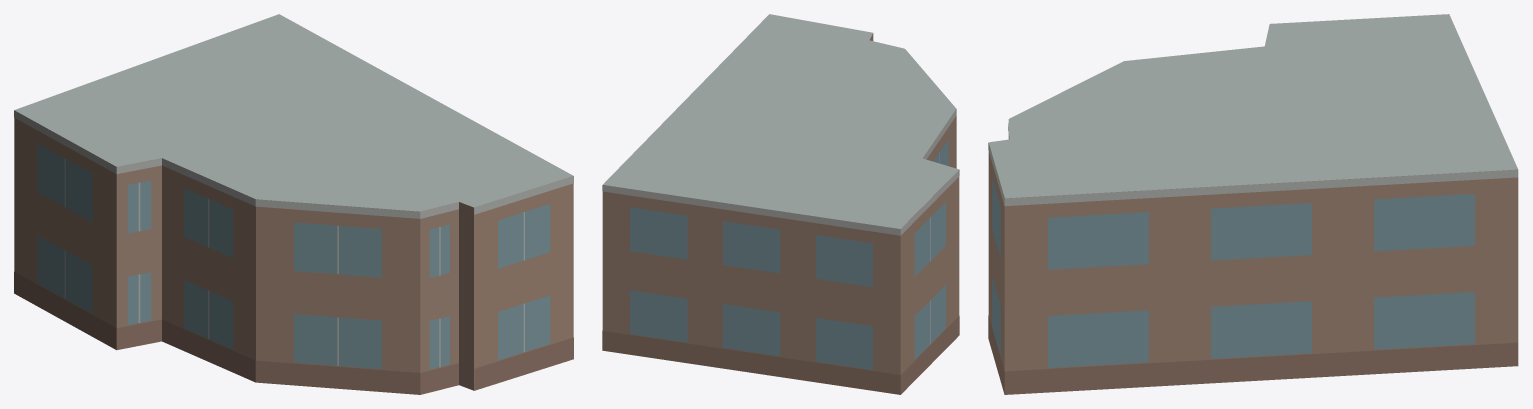
File: survey-upis-32974153.glb
3 views of the same model, side by side, from view 1: azimuth 30°, elevation 25°; view 2: azimuth 150°, elevation 25°; view 3: azimuth 270°, elevation 25° (orthographic). The views are drawn at different scales.
Parts seen in each view (by area): view 1: survey-upis-32974153.tmp; view 2: survey-upis-32974153.tmp; view 3: survey-upis-32974153.tmp.
Part boxes in pixels (x1,y1,x2,y2): survey-upis-32974153.tmp: [14, 14, 573, 394]; survey-upis-32974153.tmp: [602, 14, 959, 394]; survey-upis-32974153.tmp: [988, 14, 1518, 394].
Bounding box in the file's own units: 12.29 × 6.1 × 14.92.
